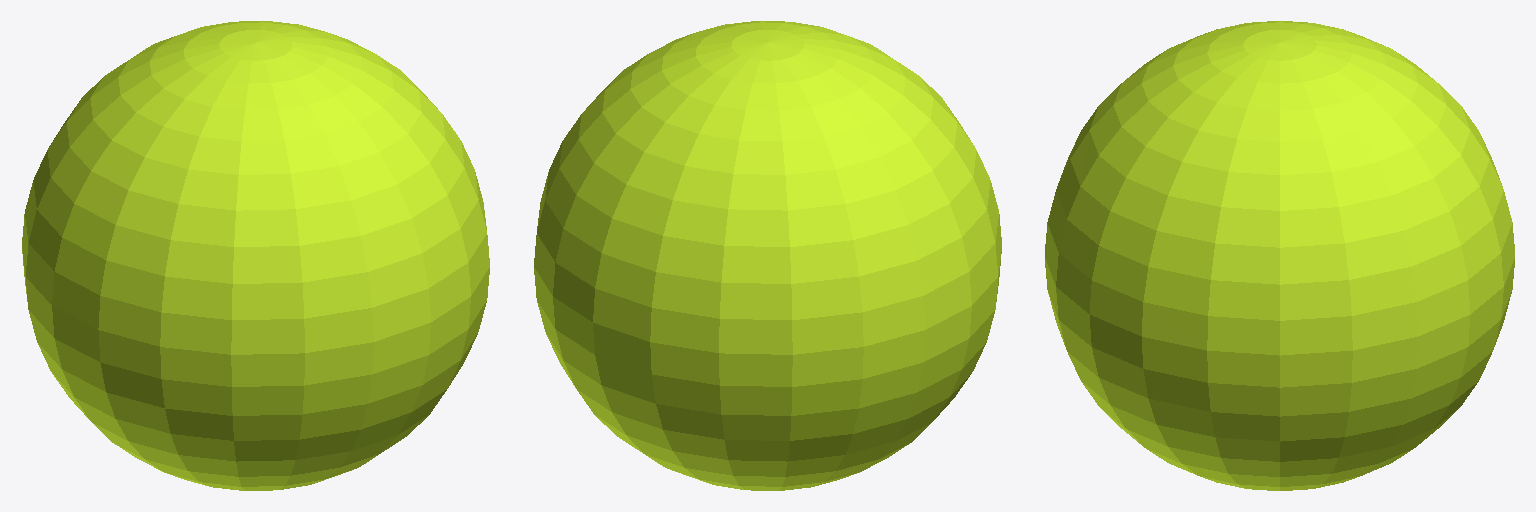
3 views of the same model, side by side, from view 1: azimuth 30°, elevation 25°; view 2: azimuth 150°, elevation 25°; view 3: azimuth 270°, elevation 25° (orthographic).
Visible parts, largest first — view 1: pSphere2; view 2: pSphere2; view 3: pSphere2.
Part boxes in pixels (x1,y1,x2,y2): pSphere2: (22, 21, 489, 490); pSphere2: (534, 21, 1001, 490); pSphere2: (1045, 21, 1514, 490).
Bounding box in the file's own units: 0.1282 × 0.1282 × 0.1282.
1 materials, 1 textured.